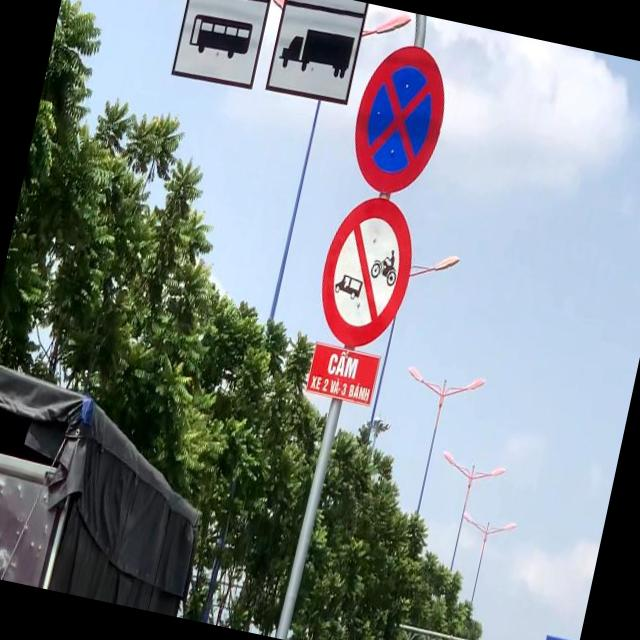P-104: (308, 190, 424, 356)
P-130: (342, 36, 456, 200)
